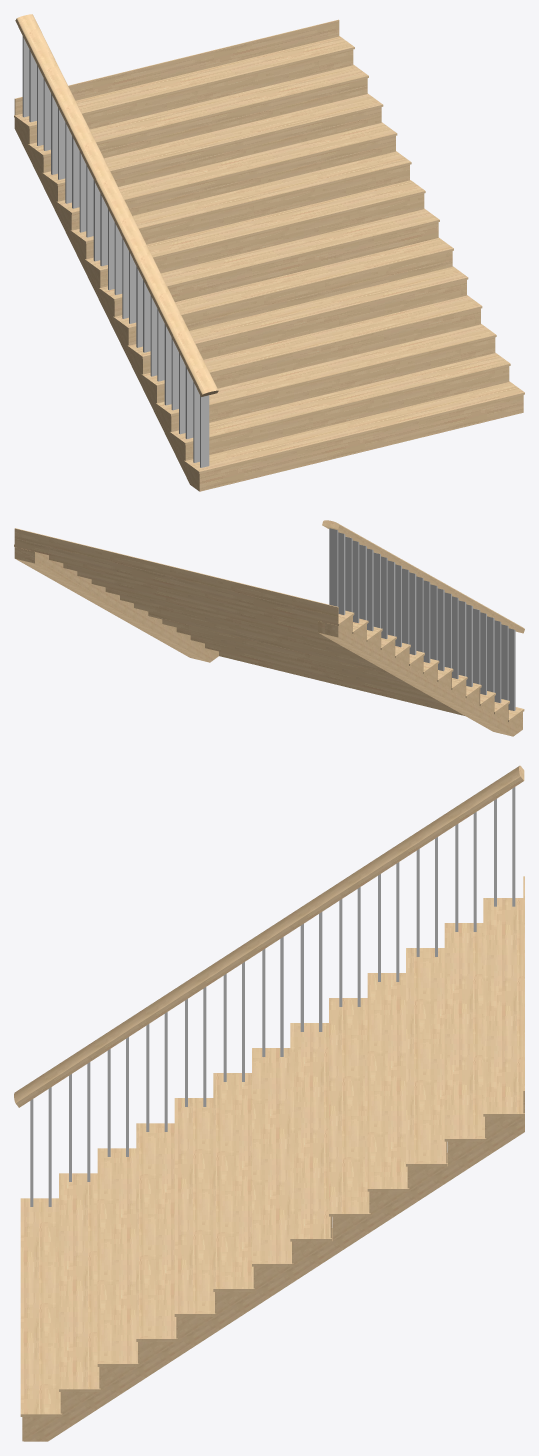
File: sh-contrib-stair-straight-open-stringer.glb
3 renders of one model, top to bottom at view 1: azimuth 30°, elevation 25°; view 2: azimuth 150°, elevation 25°; view 3: azimuth 270°, elevation 25°, orthographic. The views are drawn at different scales.
Parts seen in each view (by area): view 1: 2_2.001, 27_27.001; view 2: 2_2.001, 27_27.001; view 3: 2_2.001, 27_27.001.
Part boxes in pixels (x1=…): 2_2.001: x1=14, y1=14, x2=524, y2=491; 27_27.001: x1=22, y1=36, x2=209, y2=467; 2_2.001: x1=14, y1=520, x2=524, y2=736; 27_27.001: x1=329, y1=528, x2=515, y2=710; 2_2.001: x1=14, y1=765, x2=524, y2=1441; 27_27.001: x1=30, y1=787, x2=515, y2=1206.
Size of the model in its own units: 1 by 1 by 1.
Materials: 2 (1 with a texture image).
